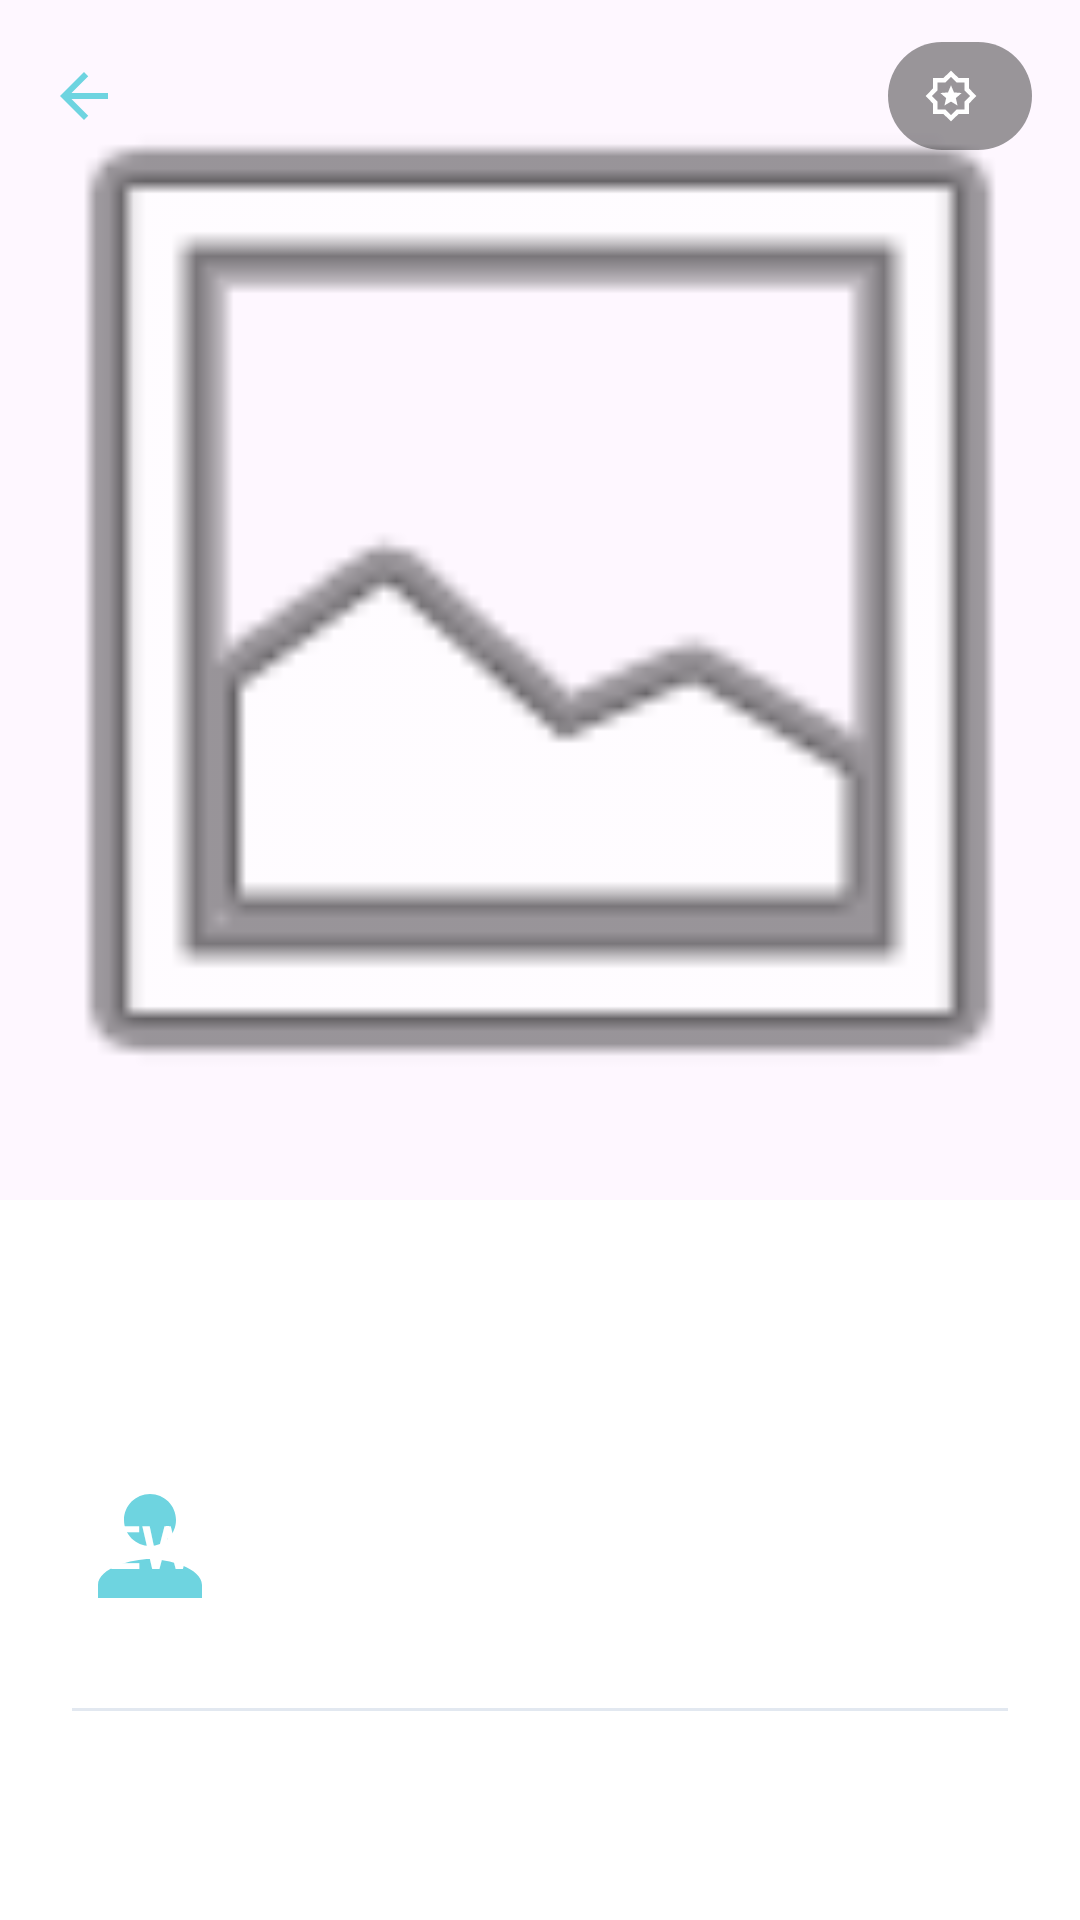

Icon click points for this 1080x1920 phone screenshot, format (x,y):
person: (150,1546)
